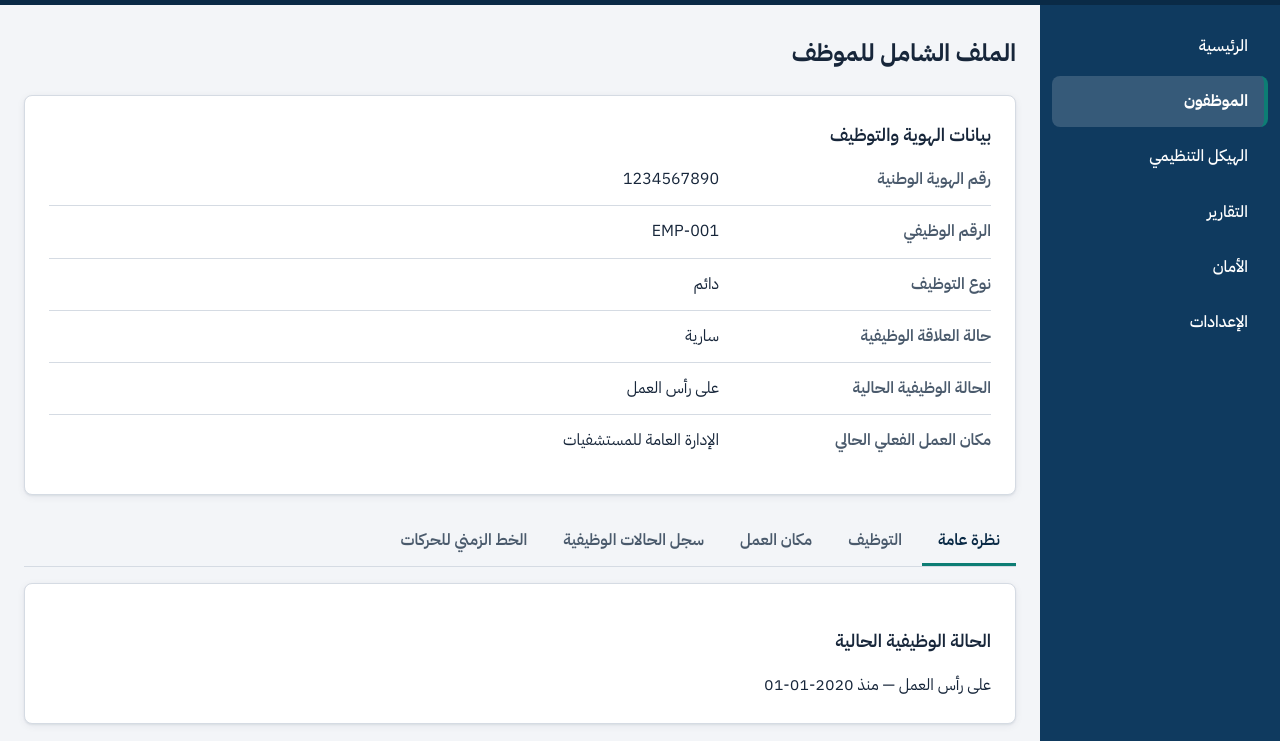
Test: Employee360Page › switches to the Employment tab and shows the full relationship record
Expected: the heading "الملف الشامل للموظف" is shown, [792,35,1016,71]
Click the tab "التوظيف" at coordinates (875, 542), box [832,519,918,566]
(page scrolled)
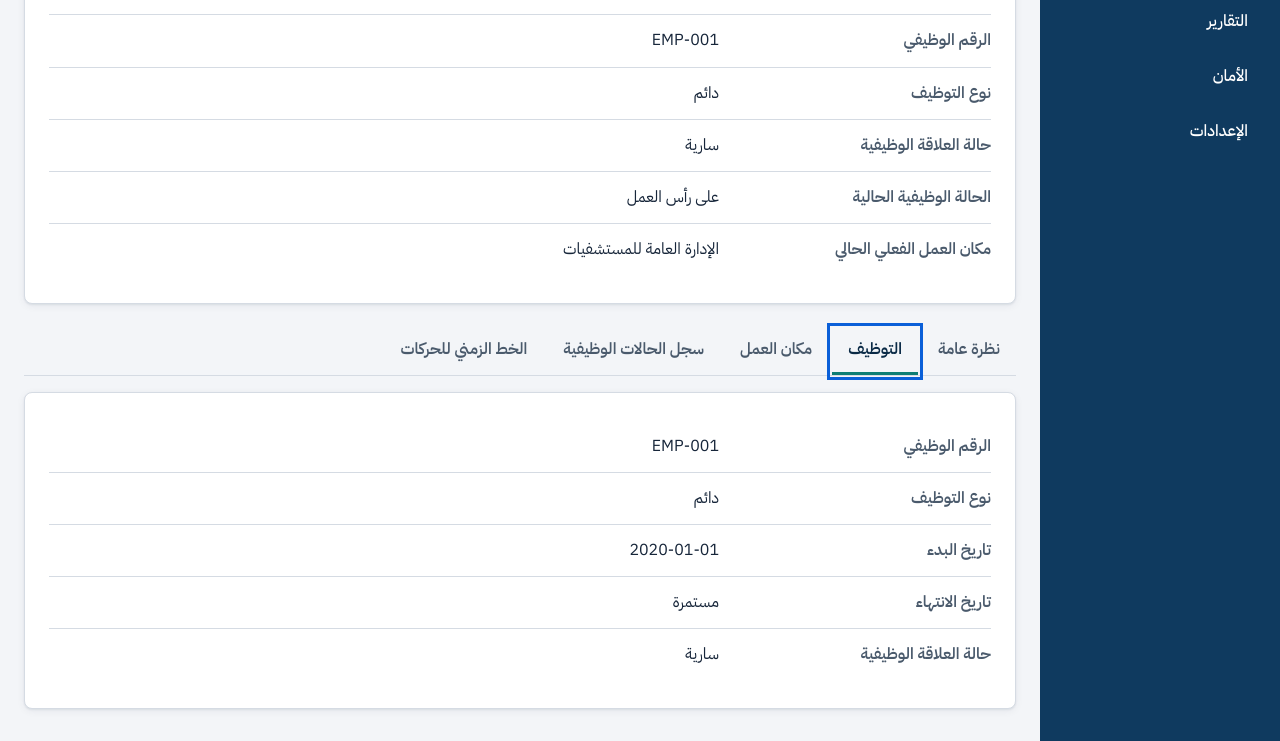
Expected: the text "2020-01-01" is shown, [629,538,719,562]
Now the text "سارية" below "تاريخ الانتهاء" is shown, box [685,642,719,666]
